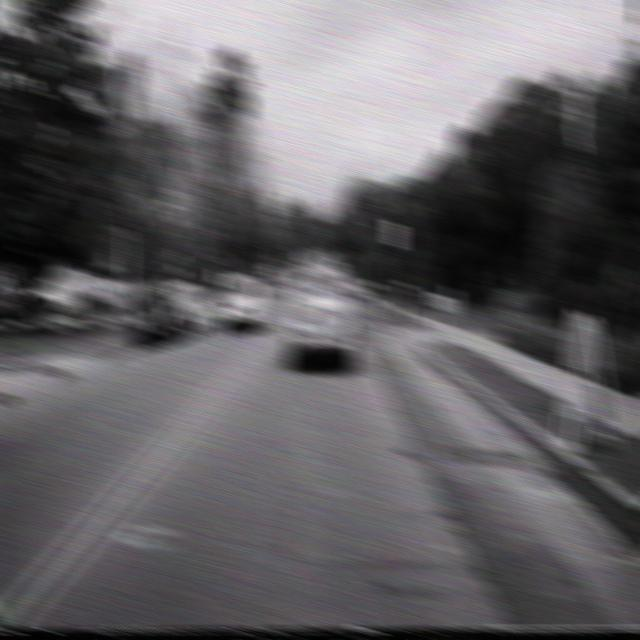speedLimit30: (384, 220, 404, 247)
